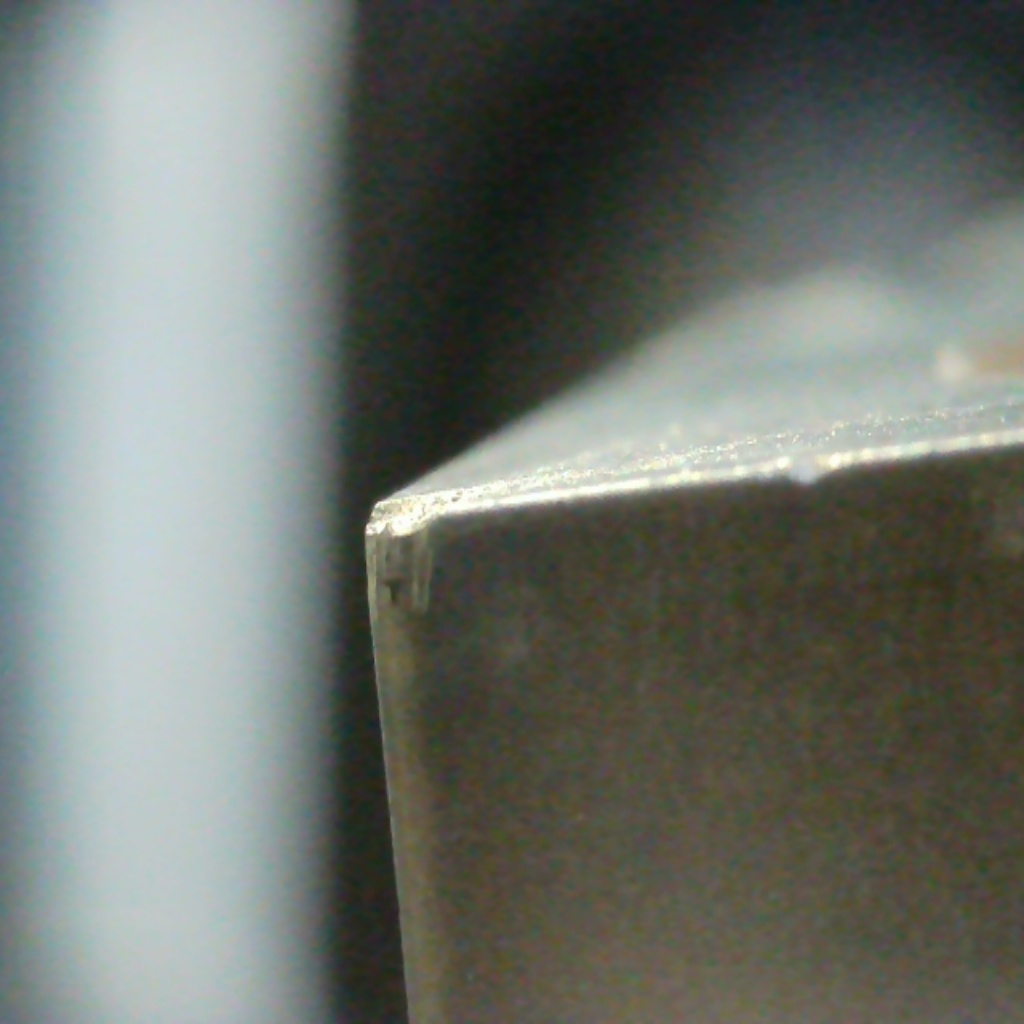flank_wear: (367, 517, 448, 631)
